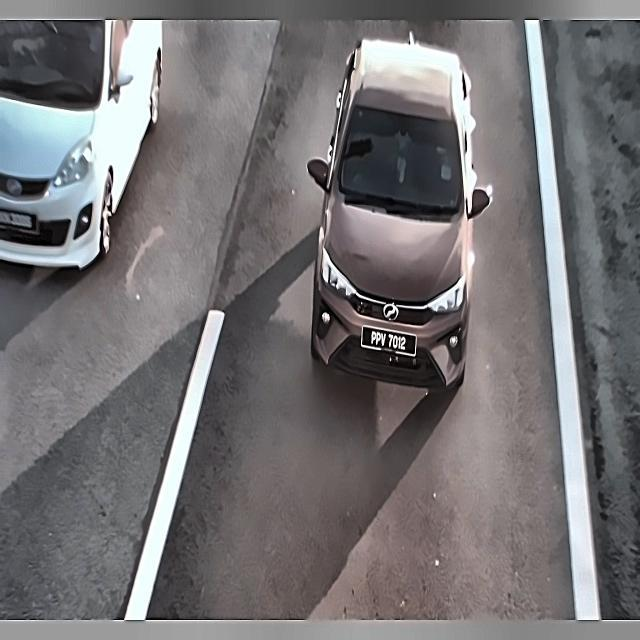car: (360, 321, 420, 358), (0, 202, 40, 237)
